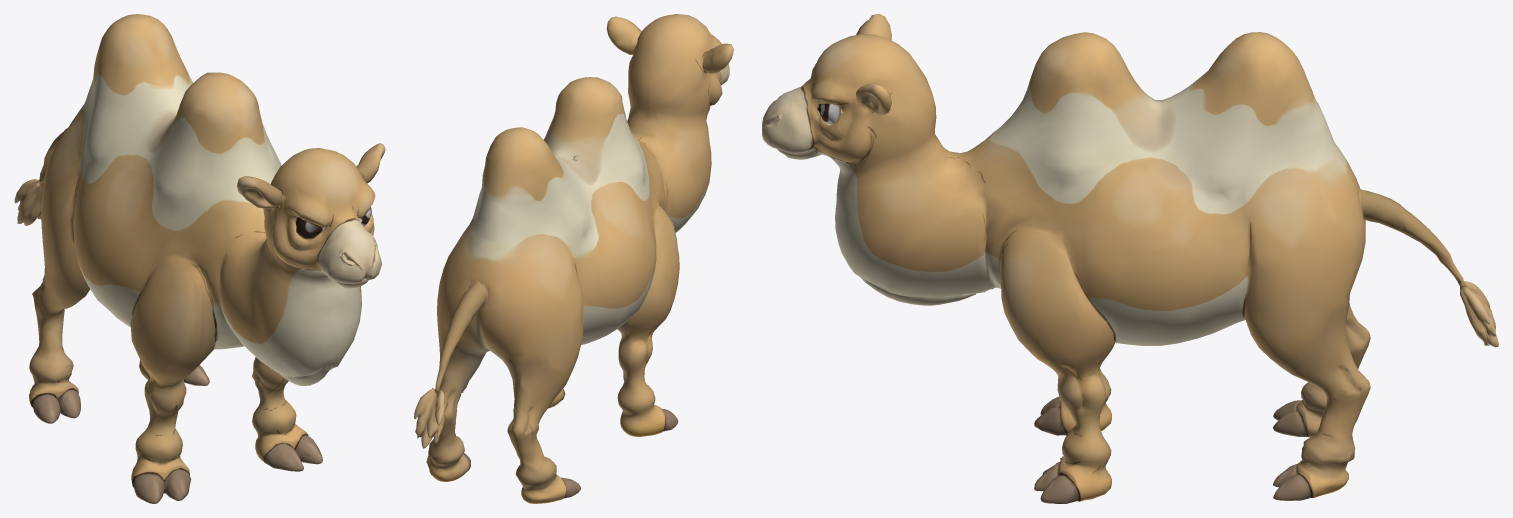
File: Pok58. Camwee.glb
3 views of the same model, side by side, from view 1: azimuth 30°, elevation 25°; view 2: azimuth 150°, elevation 25°; view 3: azimuth 270°, elevation 25° (orthographic). The views are drawn at different scales.
Visible parts, largest first — view 1: geometry_0; view 2: geometry_0; view 3: geometry_0.
Part boxes in pixels (x1=…): geometry_0: x1=14, y1=14, x2=385, y2=503; geometry_0: x1=414, y1=14, x2=733, y2=503; geometry_0: x1=762, y1=14, x2=1498, y2=503.
Size of the model in its own units: 0.3013 by 0.6045 by 0.9561.
1 material, 1 textured.
